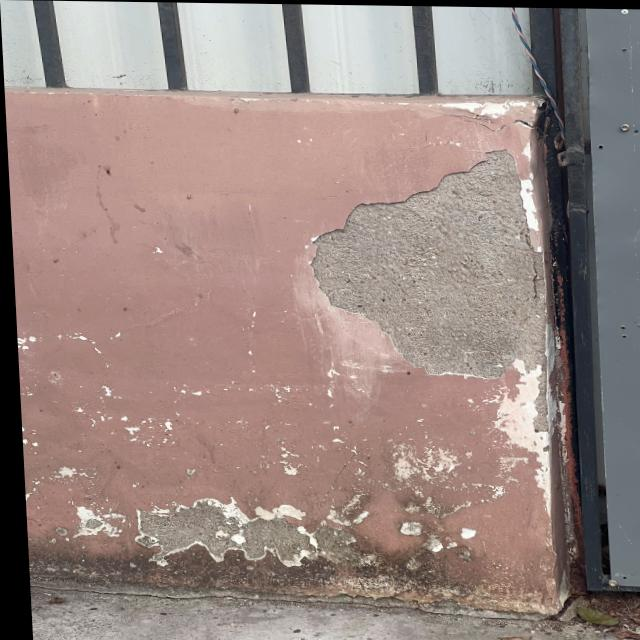spalling: (295, 139, 542, 377), (118, 501, 337, 562)
